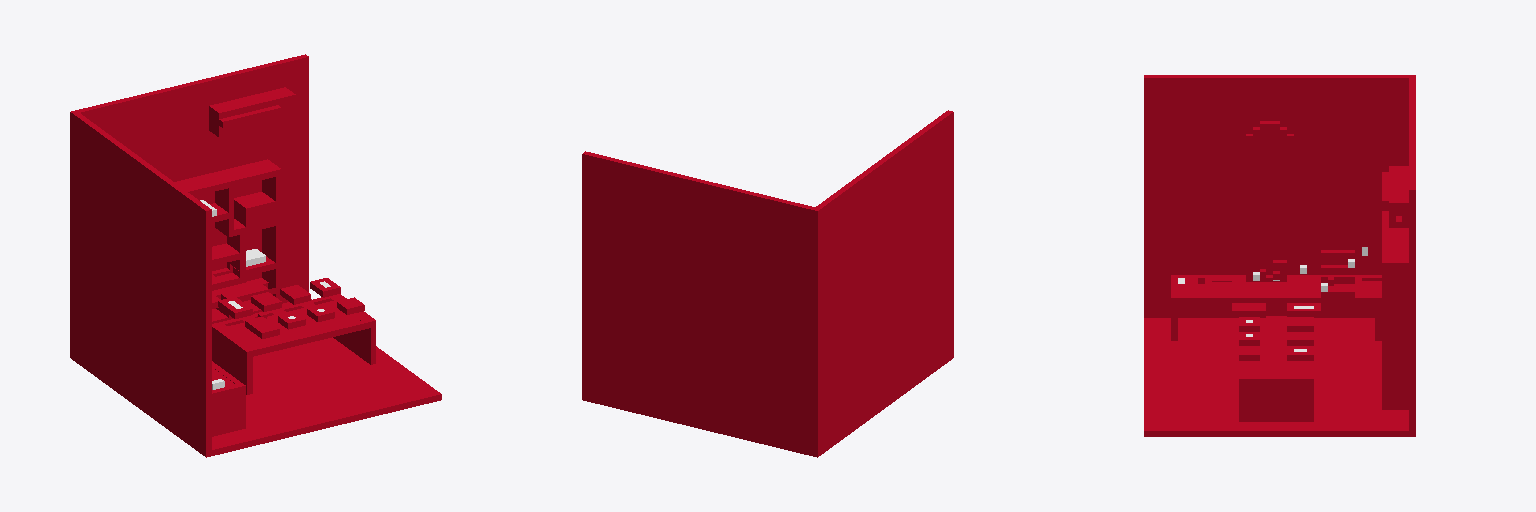
3 renders of one model, left to right at view 1: azimuth 30°, elevation 25°; view 2: azimuth 150°, elevation 25°; view 3: azimuth 270°, elevation 25°, orthographic.
Parts seen in each view (by area): view 1: object 1; view 2: object 1; view 3: object 1.
Part boxes in pixels (x1,y1,x2,y2): object 1: (70, 54, 441, 457); object 1: (582, 110, 953, 457); object 1: (1144, 75, 1415, 436).
Bounding box in the file's own units: 4 × 4 × 4.
Materials: 1 (1 with a texture image).